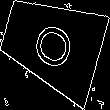O_W: (27, 15, 77, 73)
